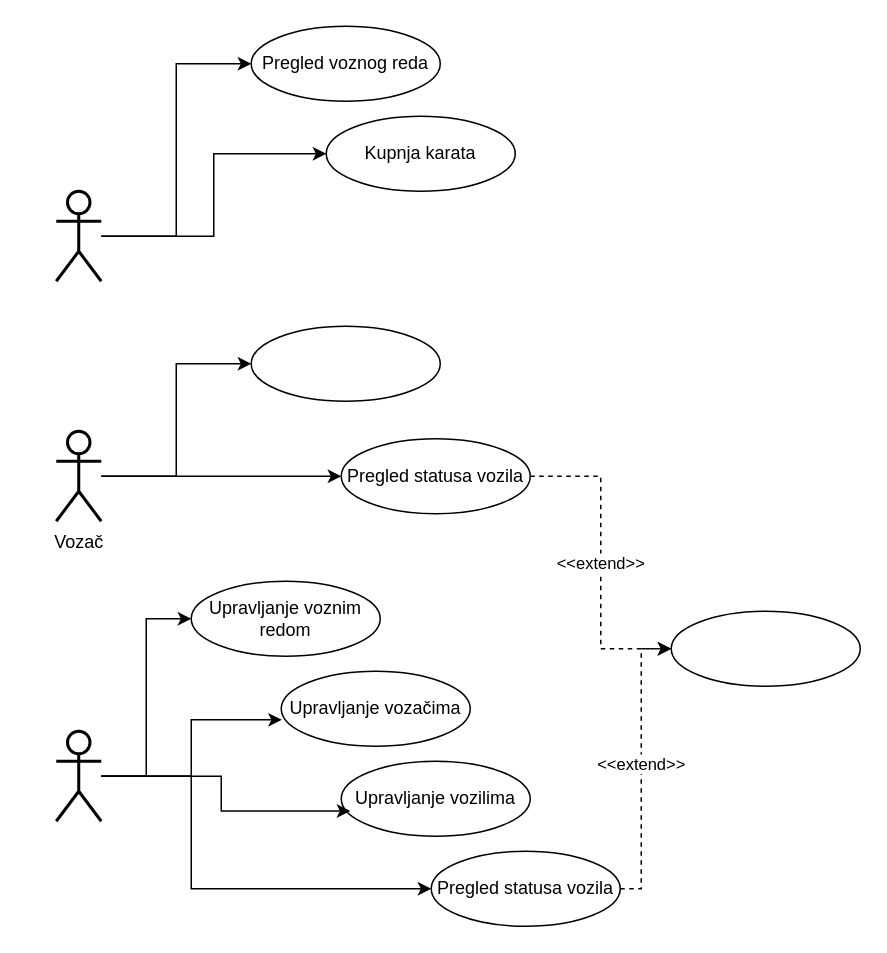
Image size: 887x953. Some labels were removed from this diagram. Here are the shapes that lost their labels. From the top down, the box of each, then its label:
(54, 189, 102, 282): Putnik
(250, 325, 440, 401): Validacija karata
(670, 610, 860, 686): Obavijesti o kašnjenjima
(54, 729, 102, 822): Administrator
